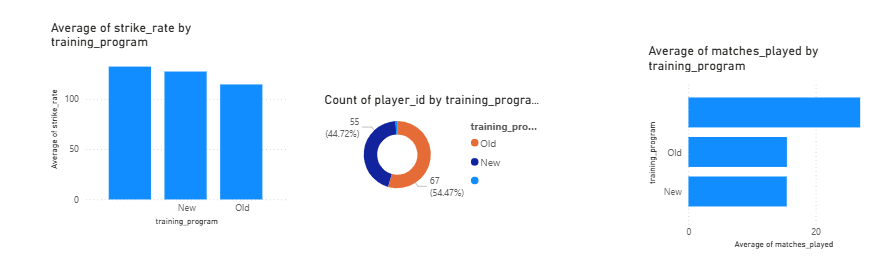

Layout of this report page (visuals, bound fields, positions):
{"tool":"powerbi","page":{"name":"Page 1","canvas":[1280,720],"ordinal":0},"visuals":[{"type":"clusteredColumnChart","fields":{"Category":["Q11_cricket_training.training_program"],"Y":["Avg(Q11_cricket_training.strike_rate)"]},"box":[93.3,50.8,325.2,279.9],"z":0},{"type":"donutChart","fields":{"Category":["Q11_cricket_training.training_program"],"Y":["CountNonNull(Q11_cricket_training.player_id)"]},"box":[458.3,146.8,300.5,148.2],"z":1000},{"type":"clusteredBarChart","fields":{"Category":["Q11_cricket_training.training_program"],"Y":["Avg(Q11_cricket_training.matches_played)"]},"box":[890.6,81,325.2,279.9],"z":1001}]}

Visuals, with their boxes on the page's 1280x720 design canvas (x1, y1, x2, y2). These are canvas units, not pixel positions in the 888x279 screenshot, which may show the page scaled, cropped or inside an application window:
clusteredColumnChart - Q11_cricket_training.training_program x Avg(Q11_cricket_training.strike_rate): (x1=93, y1=51, x2=418, y2=331)
donutChart - Q11_cricket_training.training_program x CountNonNull(Q11_cricket_training.player_id): (x1=458, y1=147, x2=759, y2=295)
clusteredBarChart - Q11_cricket_training.training_program x Avg(Q11_cricket_training.matches_played): (x1=891, y1=81, x2=1216, y2=361)
